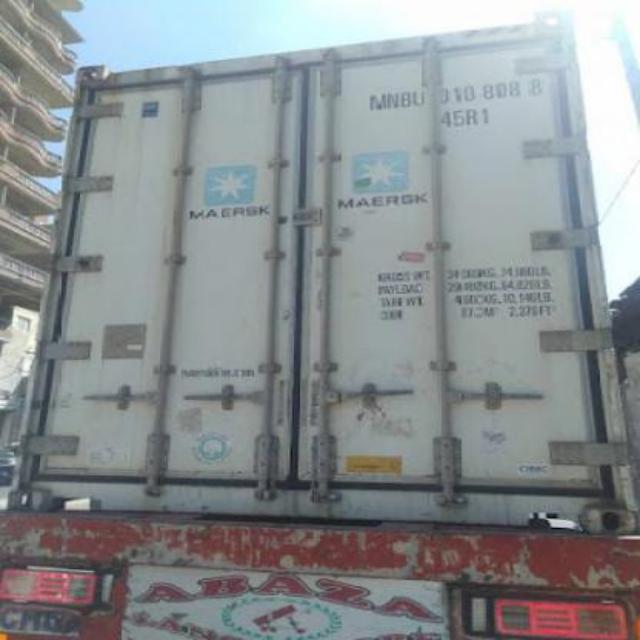0: (492, 81, 506, 101), (464, 82, 476, 102), (440, 86, 448, 102)
1: (448, 82, 464, 105)
8: (526, 78, 550, 96), (506, 76, 522, 100), (482, 80, 492, 100)
B: (398, 90, 412, 114)
M: (370, 91, 386, 112)
N: (386, 90, 399, 112)
U: (408, 89, 428, 107)
